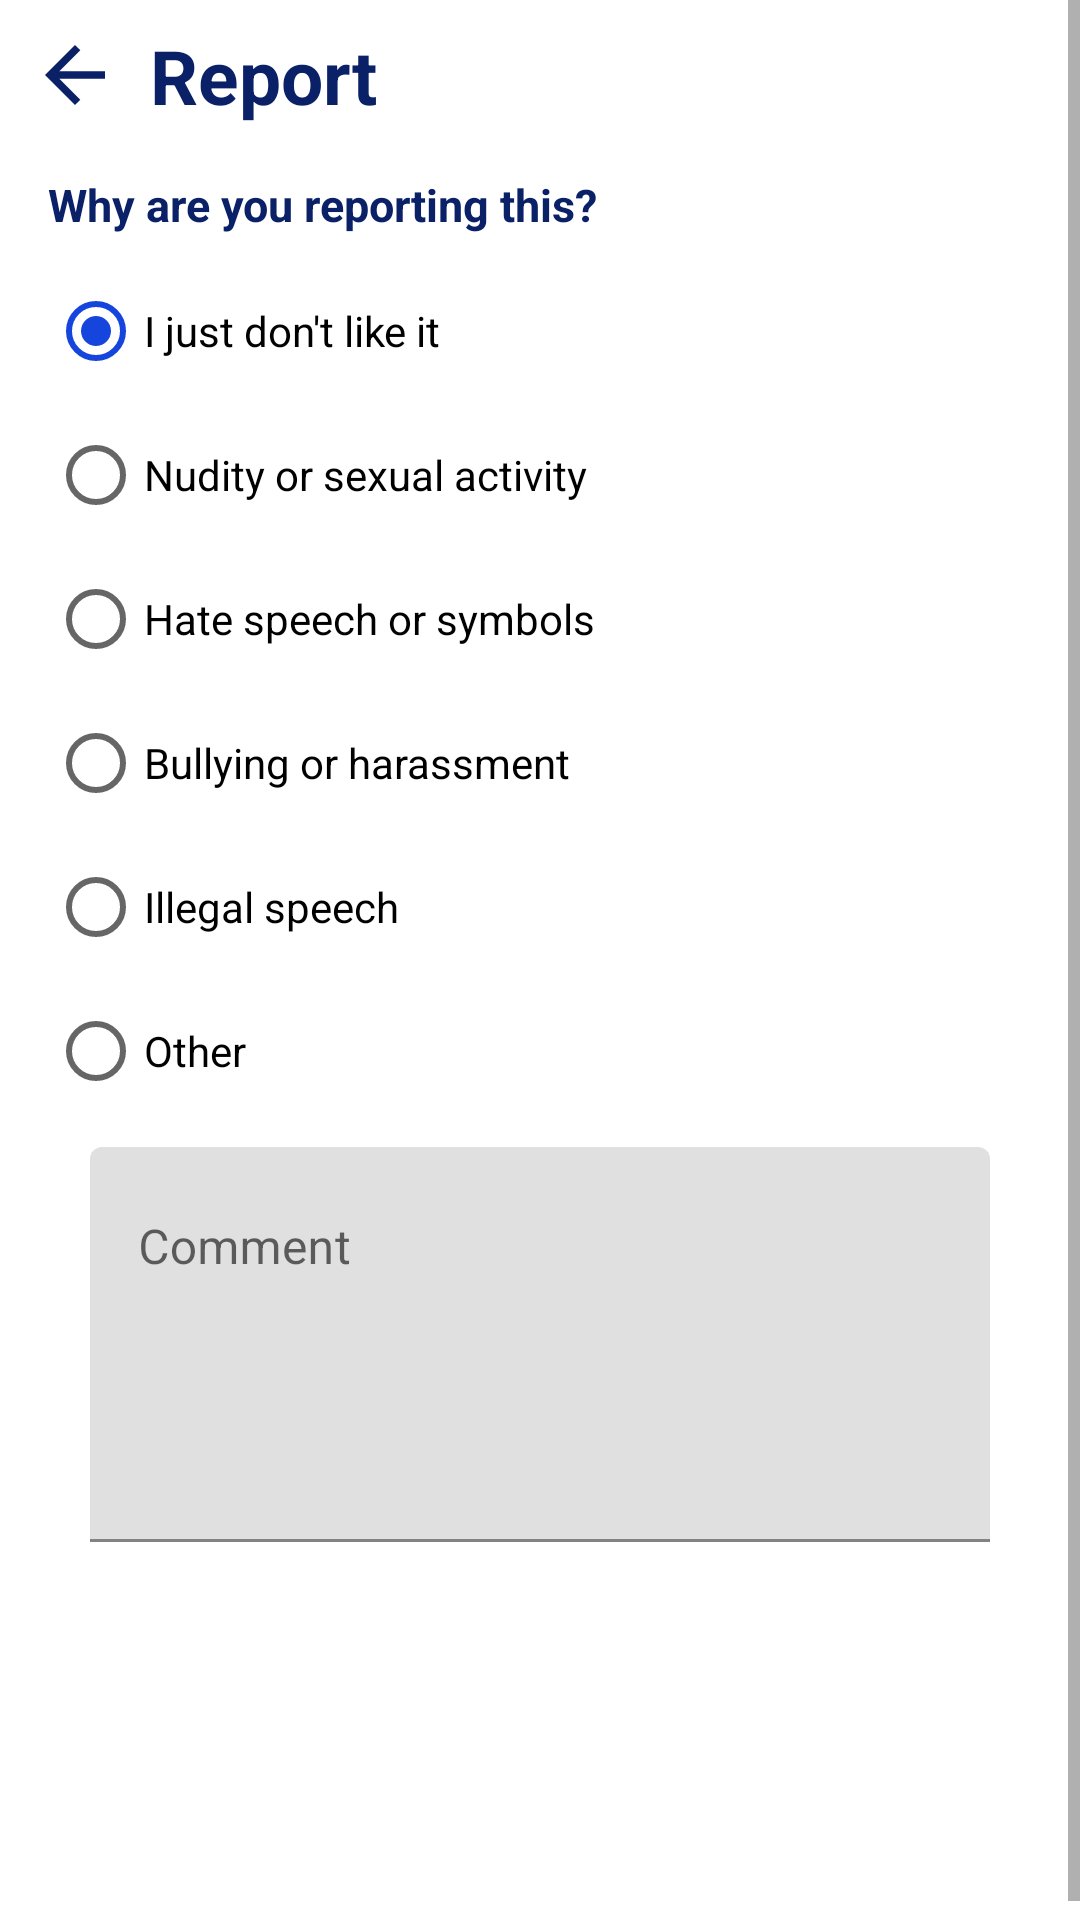

Icon bounding boxes for this 1080*1920 phone screenshot, format {"x1": x1, "y1": y1, "x2": x2, "y2": y2}:
arrow back: {"x1": 45, "y1": 45, "x2": 105, "y2": 105}
